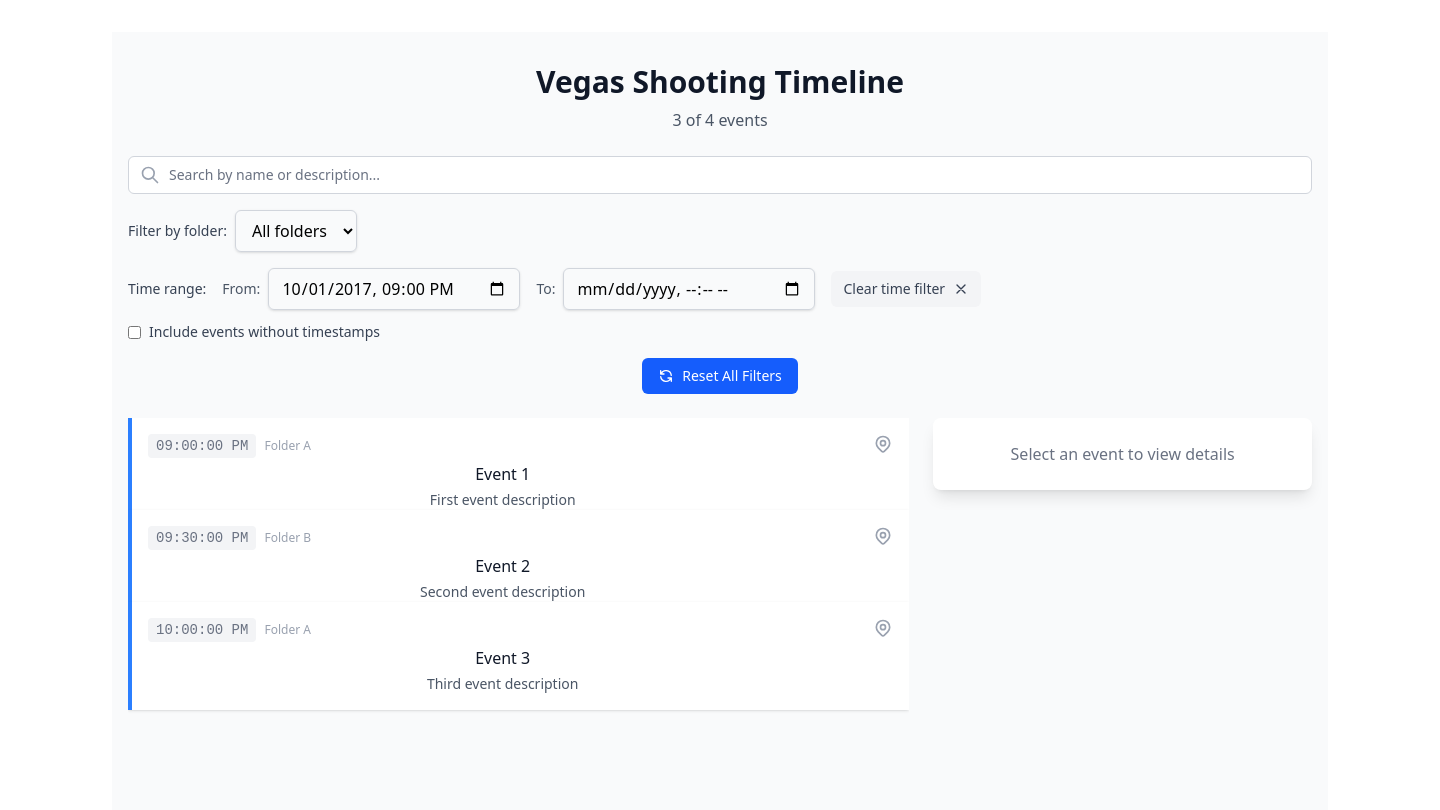
Scenario: Timeline - Filter Reset Integration › resets includeNullTimestamps to default value
Expected: the heading "Event 1" is shown, 475,463 -> 530,485
Expected: the text "Event 4 - No timestamp" is not shown
Click reset button
Step 1. Click the button "Reset All Filters" → (720, 376), box 642,358 -> 798,394
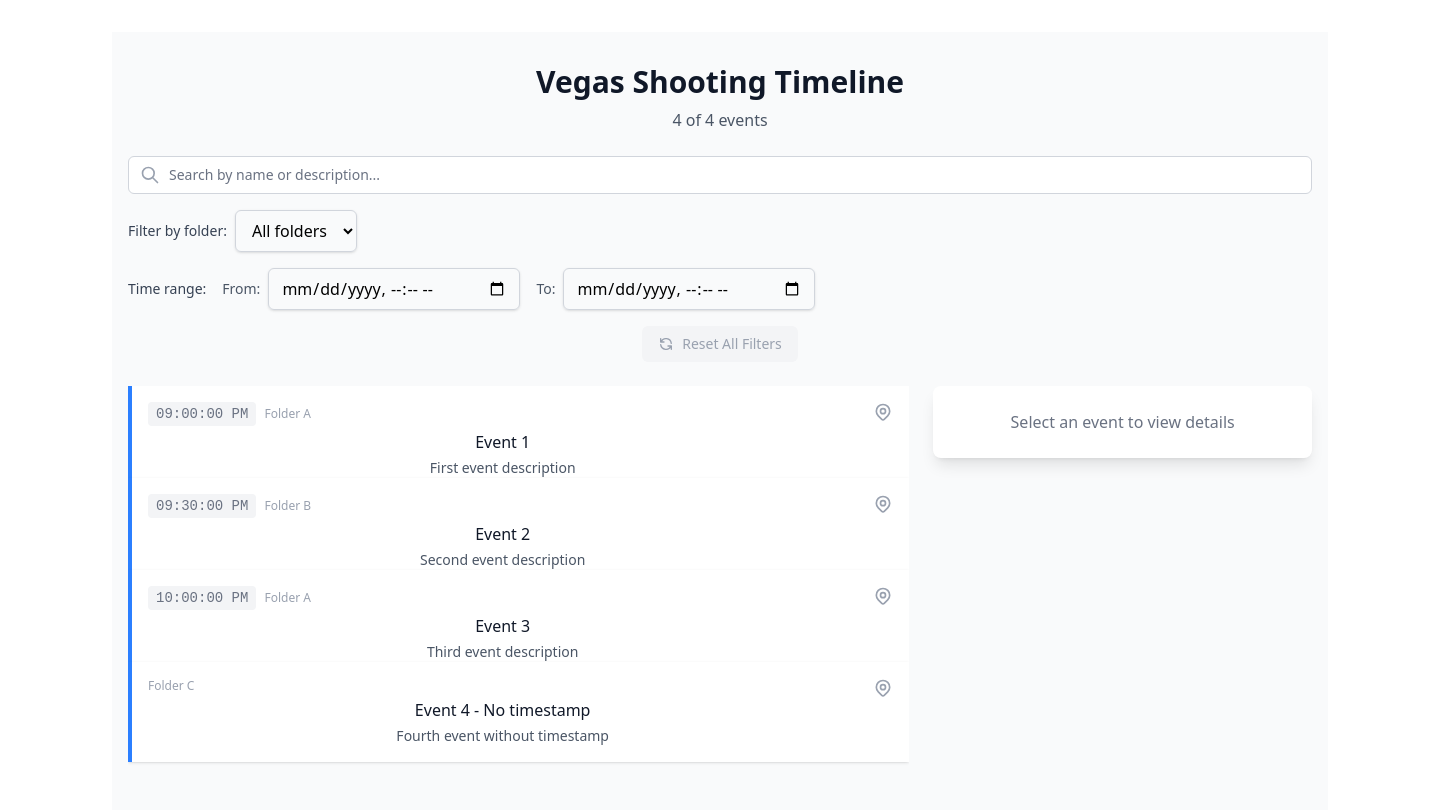
Result: the text "4 of 4 events" is shown at 672,109 -> 768,131
